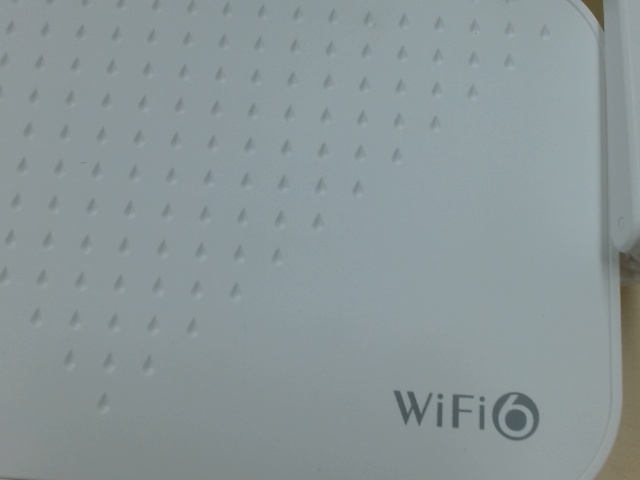AK_ZTEWIFI6: (384, 383, 548, 443)
